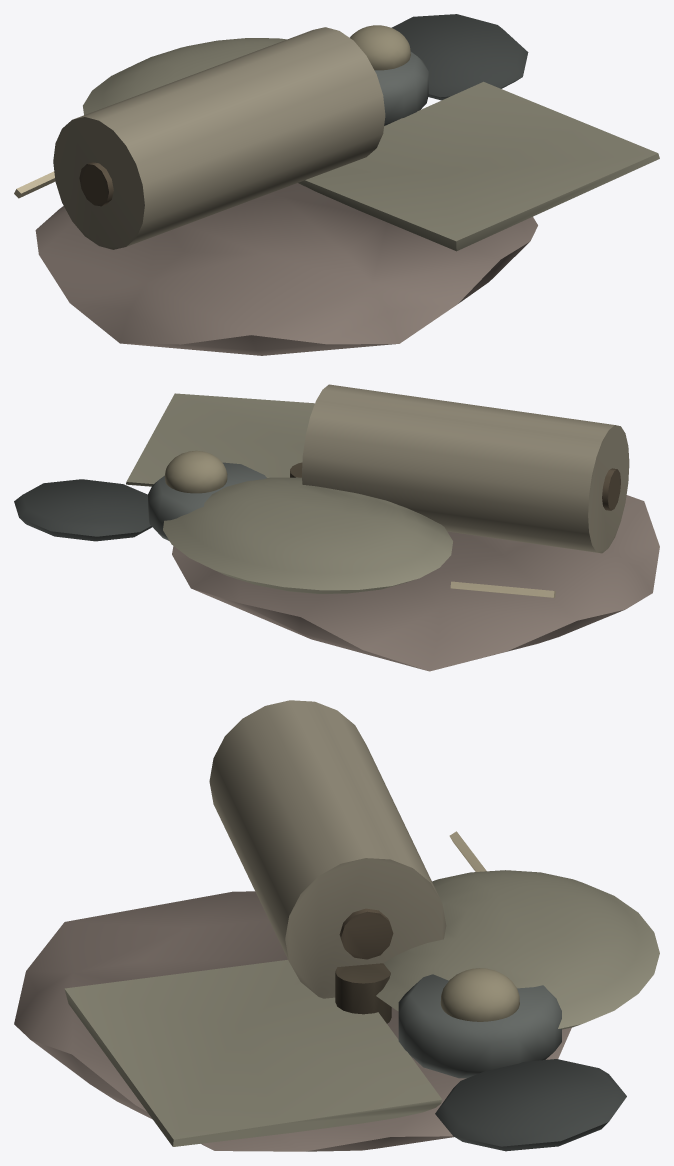
File: patch_bolt_b_lod1.glb
The picture shows the model from 3 angles, top to bottom: view 1: azimuth 30°, elevation 25°; view 2: azimuth 150°, elevation 25°; view 3: azimuth 270°, elevation 25°; orthographic projection. The views are drawn at different scales.
Visible parts, largest first — view 1: Surface.001; view 2: Surface.001; view 3: Surface.001.
Boxes of the visible parts, x1,y1,x2,y2 form: Surface.001: (14,14,659,355); Surface.001: (14,384,659,671); Surface.001: (14,700,659,1151).
Bounding box in the file's own units: 1.46 × 0.5851 × 1.27.
